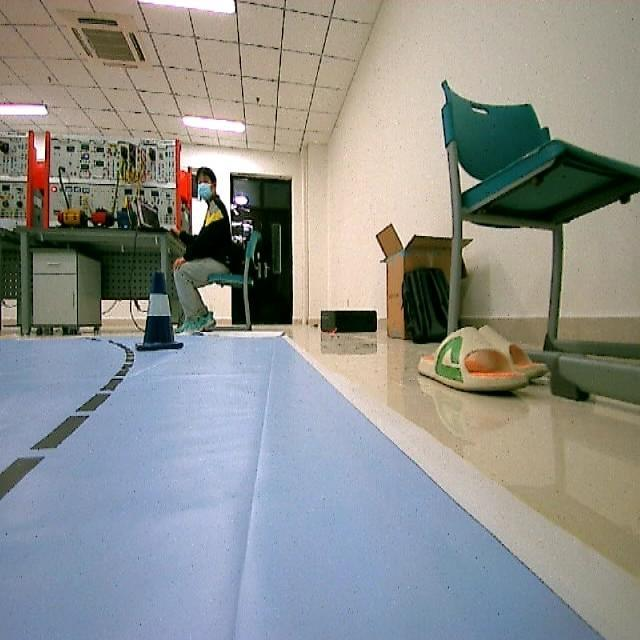obstacle: (135, 271, 184, 351)
